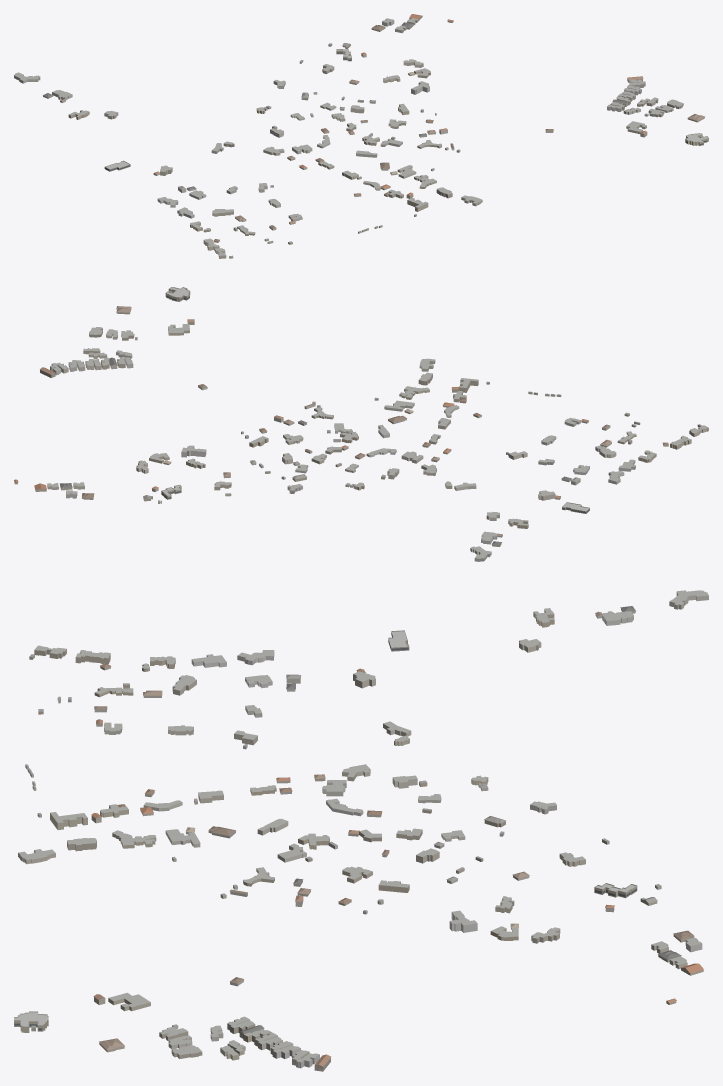
Rendered from buildings_r1_c0.glb.
3 views of the same model, one above another, from view 1: azimuth 30°, elevation 25°; view 2: azimuth 150°, elevation 25°; view 3: azimuth 270°, elevation 25° (orthographic). The views are drawn at different scales.
Parts seen in each view (by area): view 1: buildings_r1_c0; view 2: buildings_r1_c0; view 3: buildings_r1_c0.
Part boxes in pixels (x1,y1,x2,y2): buildings_r1_c0: [14, 14, 708, 258]; buildings_r1_c0: [14, 287, 708, 561]; buildings_r1_c0: [14, 590, 708, 1071].
Bounding box in the file's own units: 1140 × 102 × 818.
